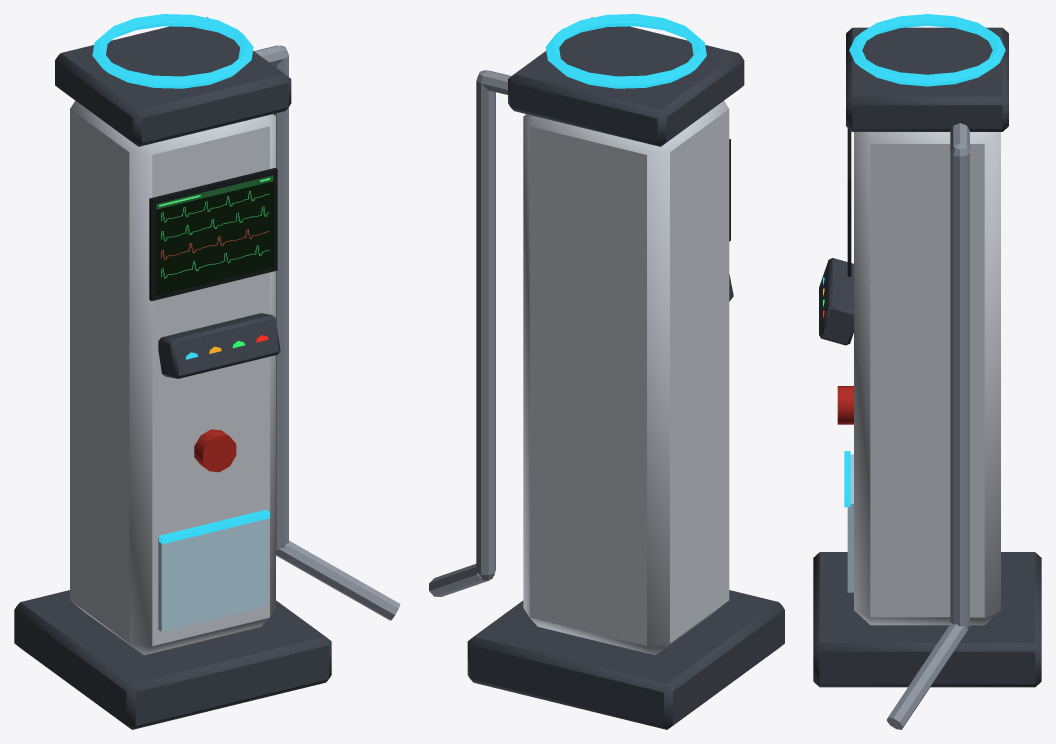
The model's file is cryo_cryo_control_pillar.glb.
The picture shows the model from 3 angles, left to right: view 1: azimuth 30°, elevation 25°; view 2: azimuth 150°, elevation 25°; view 3: azimuth 270°, elevation 25°; orthographic projection. The views are drawn at different scales.
Visible parts, largest first — view 1: cryo_cryo_control_pillar; view 2: cryo_cryo_control_pillar; view 3: cryo_cryo_control_pillar.
Part boxes in pixels (<box>): cryo_cryo_control_pillar: <box>14,14,400,729</box>; cryo_cryo_control_pillar: <box>429,14,784,729</box>; cryo_cryo_control_pillar: <box>813,14,1041,729</box>.
Size of the model in its own units: 1.07 by 2.02 by 0.7.
Materials: 11 (1 with a texture image).
